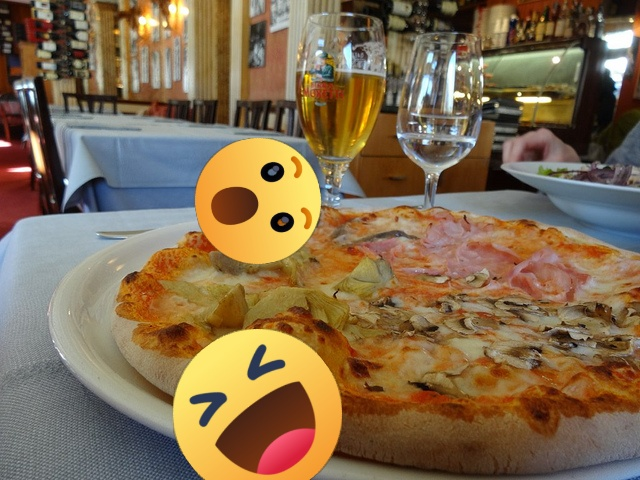haha: (173, 329, 342, 480)
wow: (195, 138, 321, 264)
